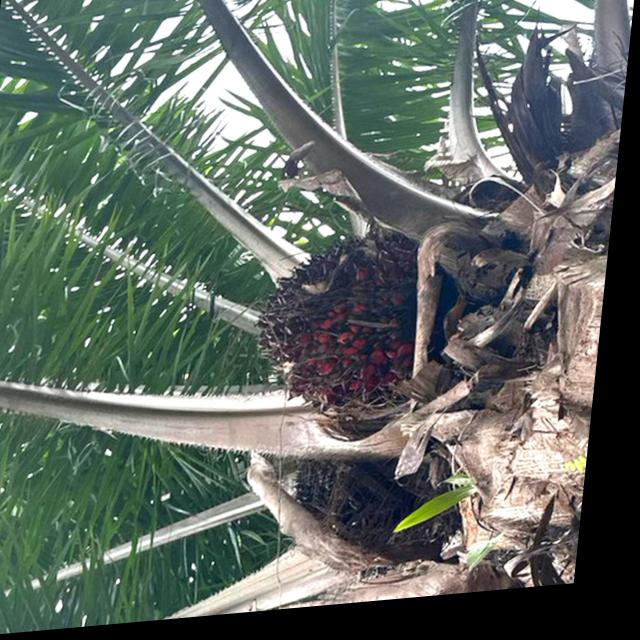ripe: (241, 226, 448, 447)
